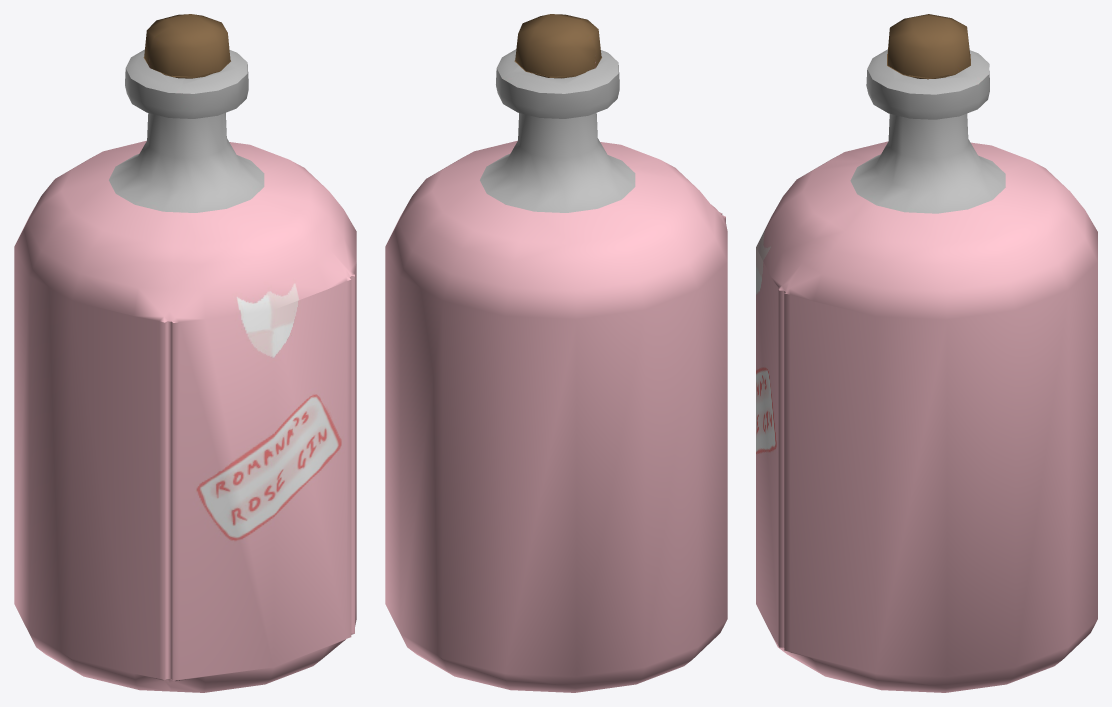
File: gin_edited.gltf
The picture shows the model from 3 angles, left to right: view 1: azimuth 30°, elevation 25°; view 2: azimuth 150°, elevation 25°; view 3: azimuth 270°, elevation 25°; orthographic projection.
Visible parts, largest first — view 1: Glass_low, Cork_low; view 2: Glass_low, Cork_low; view 3: Glass_low, Cork_low.
Boxes of the visible parts, x1,y1,x2,y2 form: Glass_low: [14, 49, 356, 692]; Cork_low: [143, 14, 230, 78]; Glass_low: [385, 49, 727, 692]; Cork_low: [514, 14, 601, 78]; Glass_low: [756, 49, 1097, 692]; Cork_low: [887, 14, 970, 79].
Size of the model in its own units: 1.02 by 2 by 1.02.
1 material, 1 textured.
